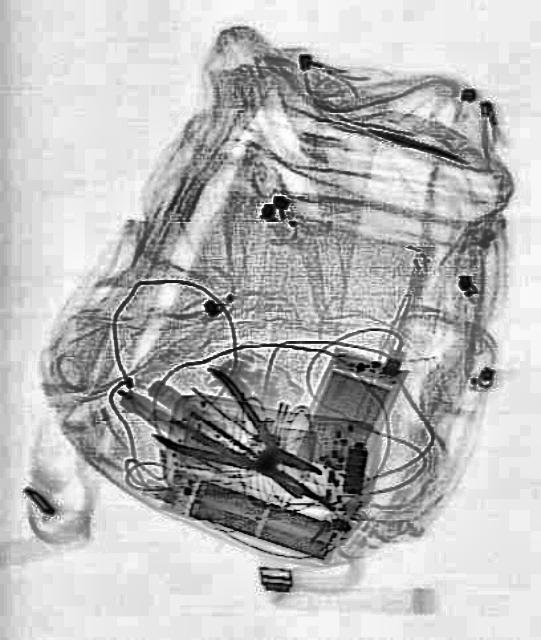Pliers: (150, 351, 338, 525)
